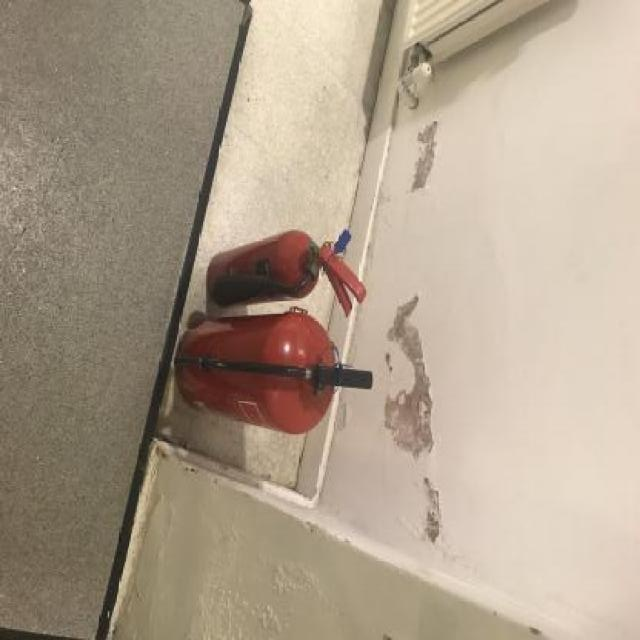fire extinguisher: (175, 310, 373, 436), (210, 230, 367, 318)
